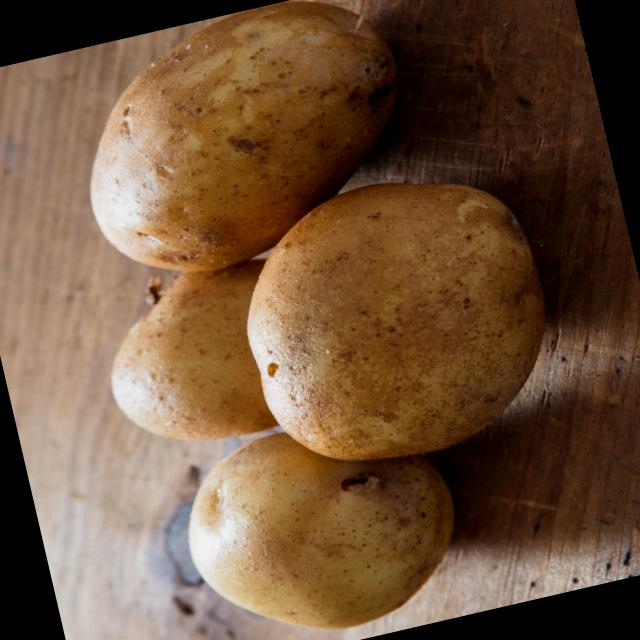potato: (220, 145, 574, 482), (57, 0, 431, 292), (164, 399, 476, 640)
